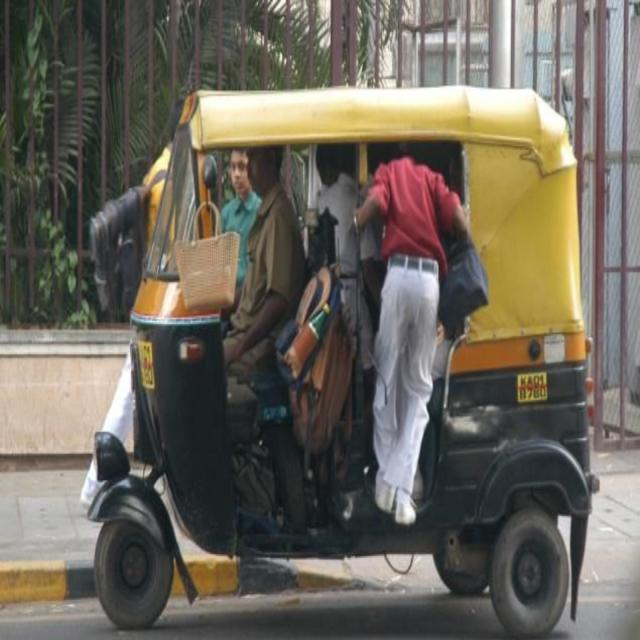accident: (90, 88, 596, 633)
